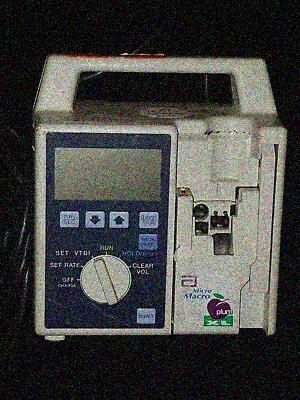plumxl1: (26, 47, 289, 340)
